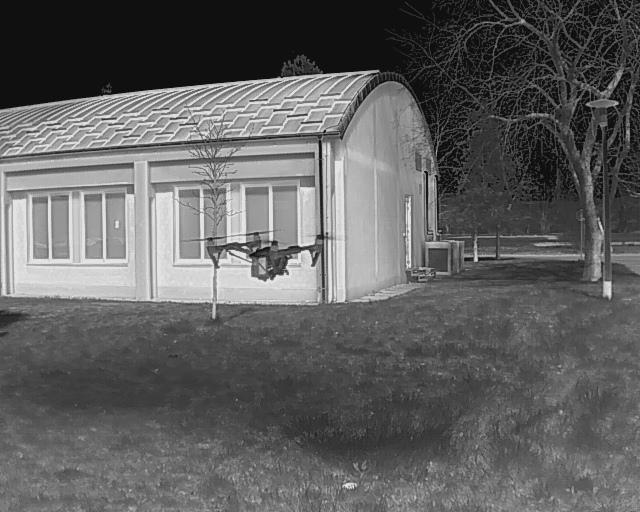drone: (177, 216, 356, 301)
